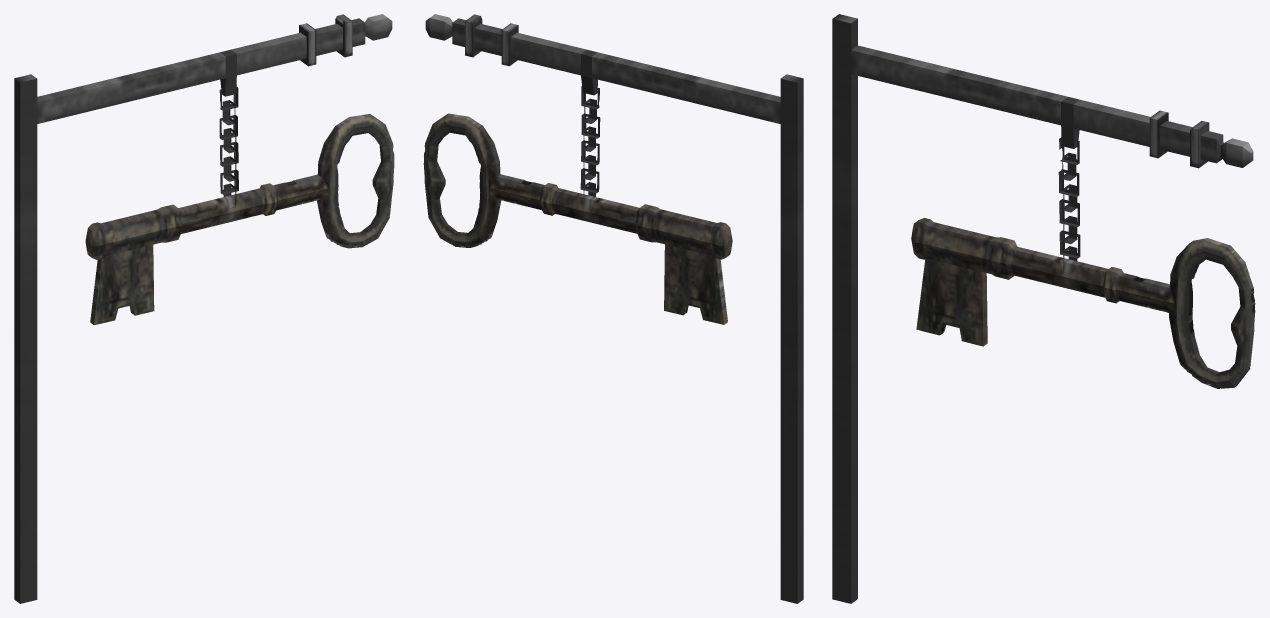
File: sign_360x08.obj
The picture shows the model from 3 angles, left to right: view 1: azimuth 30°, elevation 25°; view 2: azimuth 150°, elevation 25°; view 3: azimuth 330°, elevation 25°; orthographic projection. The views are drawn at different scales.
Parts seen in each view (by area): view 1: Sign_360x8; view 2: Sign_360x8; view 3: Sign_360x8.
Part boxes in pixels (left/top/right/bottom): Sign_360x8: left=14, top=14, right=394, bottom=603; Sign_360x8: left=423, top=14, right=803, bottom=603; Sign_360x8: left=832, top=14, right=1255, bottom=603.
Size of the model in its own units: 2.96 by 3.92 by 0.1432.
